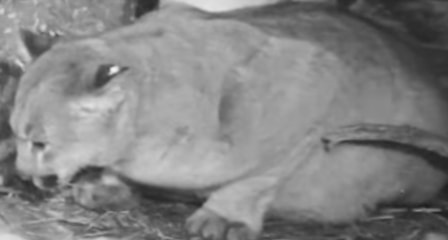Mountain Lion: (4, 4, 445, 236)
